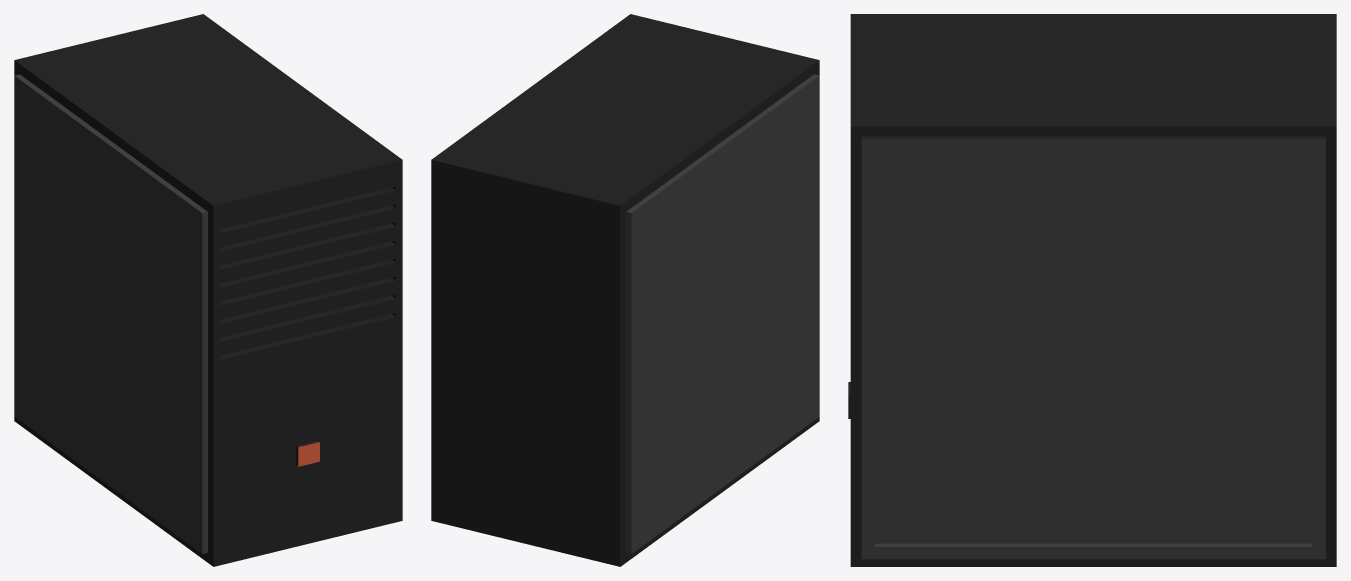
The model's file is desktop.gltf.
3 renders of one model, left to right at view 1: azimuth 30°, elevation 25°; view 2: azimuth 150°, elevation 25°; view 3: azimuth 270°, elevation 25°, orthographic. The views are drawn at different scales.
Parts seen in each view (by area): view 1: Cube; view 2: Cube; view 3: Cube.
Boxes of the visible parts, bbox=[...] form: Cube: bbox=[14, 14, 402, 566]; Cube: bbox=[431, 14, 819, 566]; Cube: bbox=[848, 14, 1336, 566].
Size of the model in its own units: 0.2325 by 0.4046 by 0.4067.
1 material, 1 textured.
